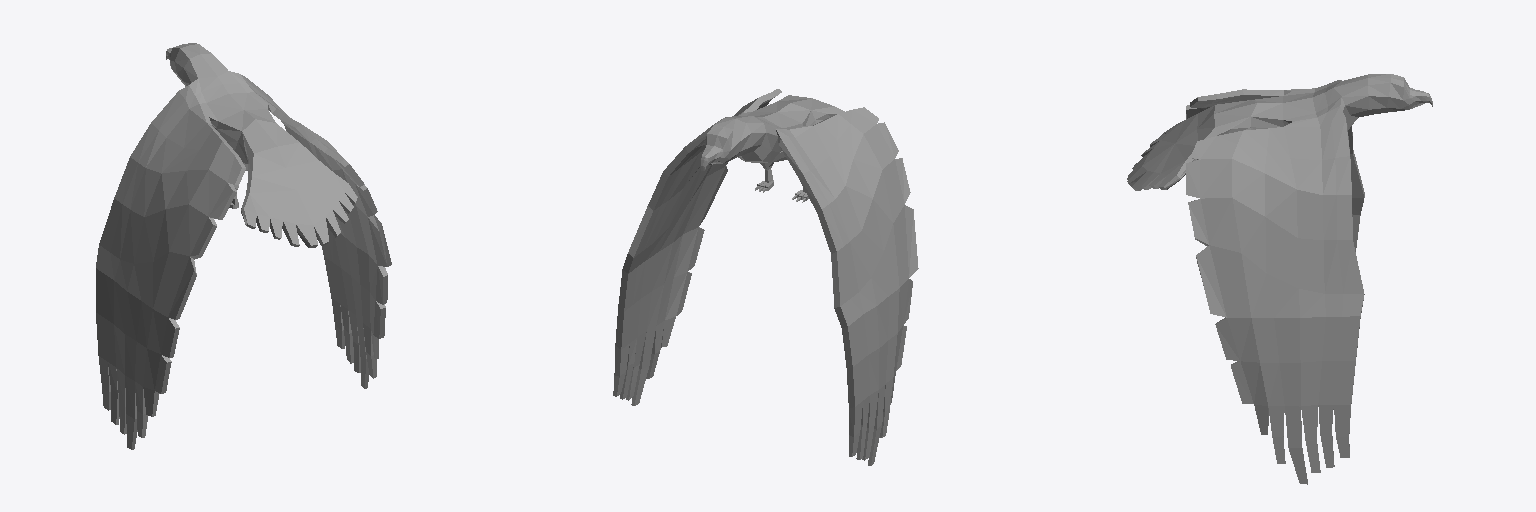
The model's file is Eagle.obj.
The picture shows the model from 3 angles: view 1: azimuth 30°, elevation 25°; view 2: azimuth 150°, elevation 25°; view 3: azimuth 270°, elevation 25°; orthographic projection.
Parts seen in each view (by area): view 1: Eagle_Cylinder; view 2: Eagle_Cylinder; view 3: Eagle_Cylinder.
Part boxes in pixels (left/top/right/bottom): Eagle_Cylinder: left=96, top=43, right=391, bottom=449; Eagle_Cylinder: left=613, top=89, right=918, bottom=465; Eagle_Cylinder: left=1127, top=74, right=1432, bottom=484.
Bounding box in the file's own units: 4.42 × 5.94 × 4.78.